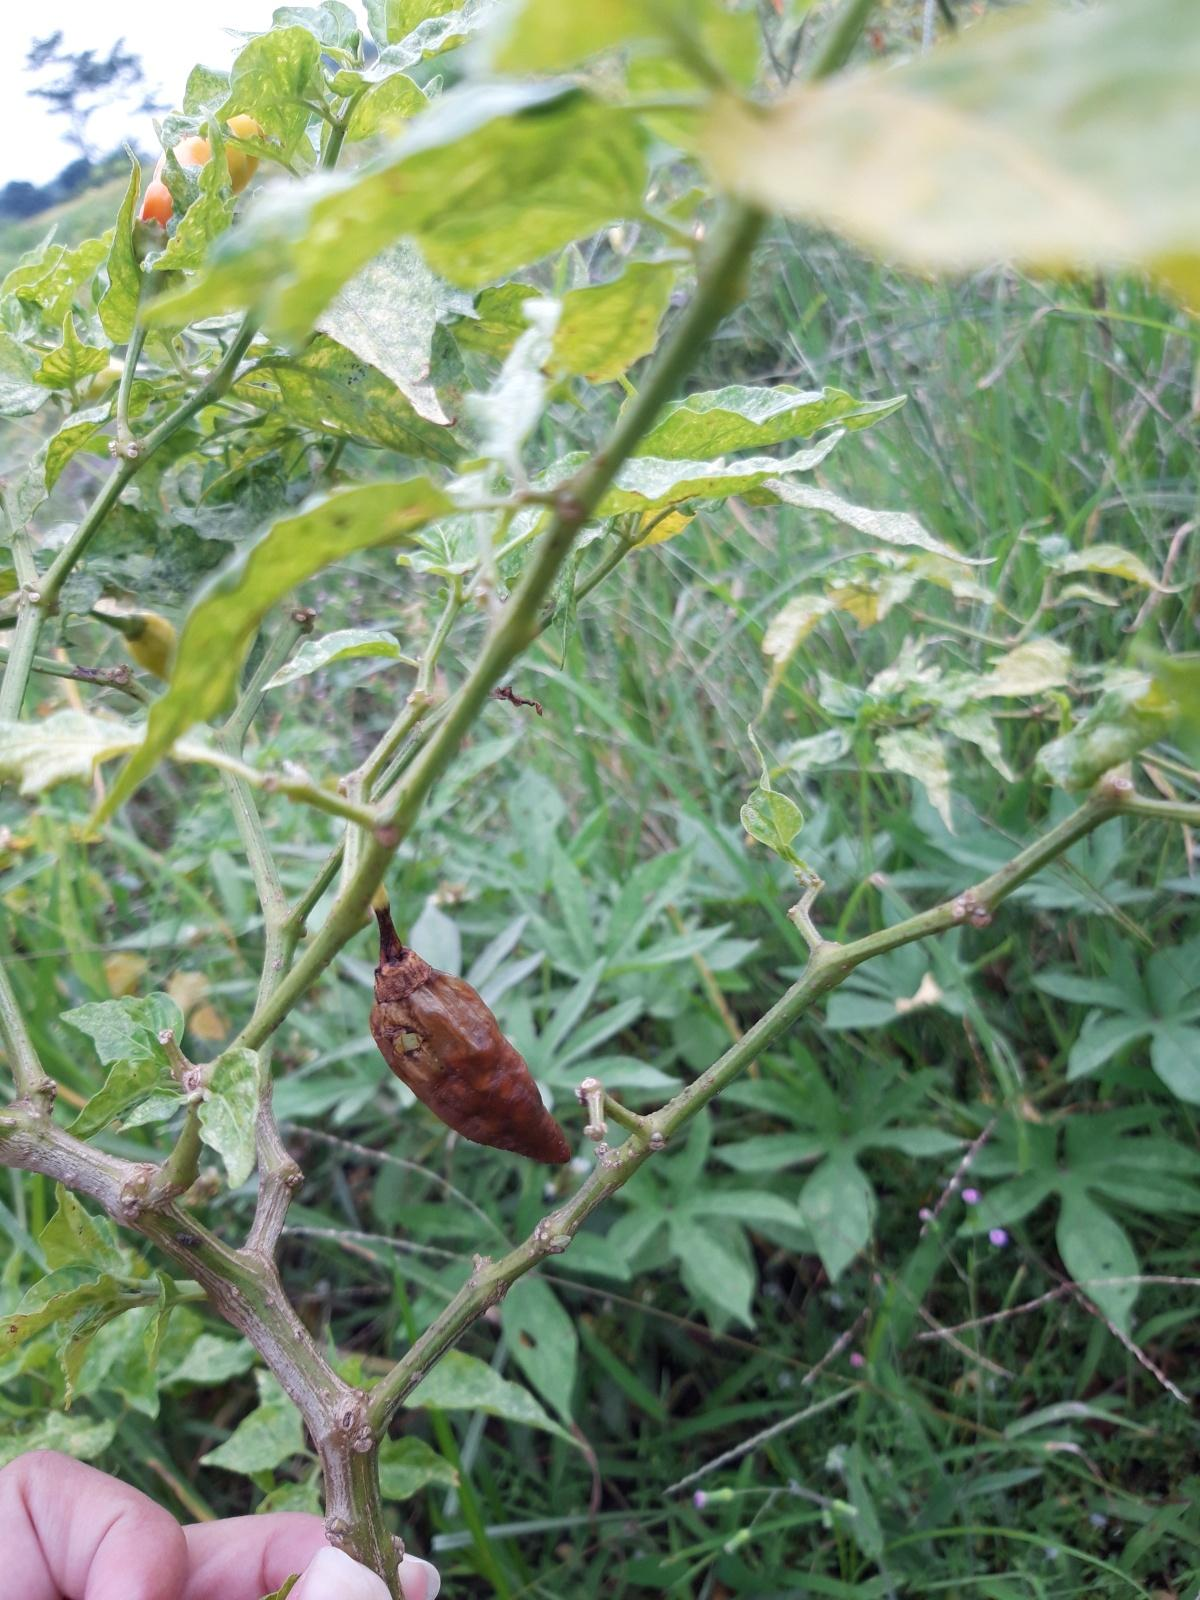lalat_buah: (367, 949, 572, 1169)
